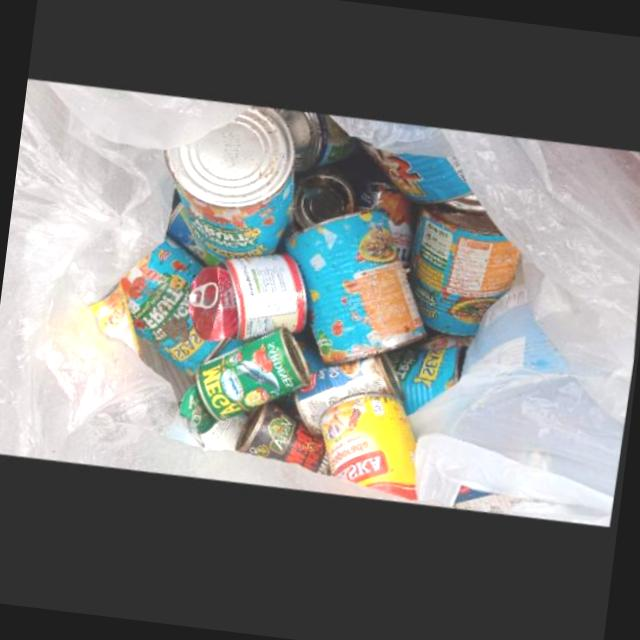nhom: (285, 214, 428, 369), (165, 112, 296, 267), (408, 206, 522, 339), (181, 332, 313, 440), (122, 242, 222, 381), (188, 257, 310, 349), (322, 398, 421, 504), (295, 357, 407, 441), (364, 146, 481, 212), (237, 407, 331, 478), (388, 338, 471, 418), (281, 115, 364, 177), (355, 187, 419, 265), (290, 174, 358, 238), (167, 208, 228, 277), (91, 290, 140, 360)
